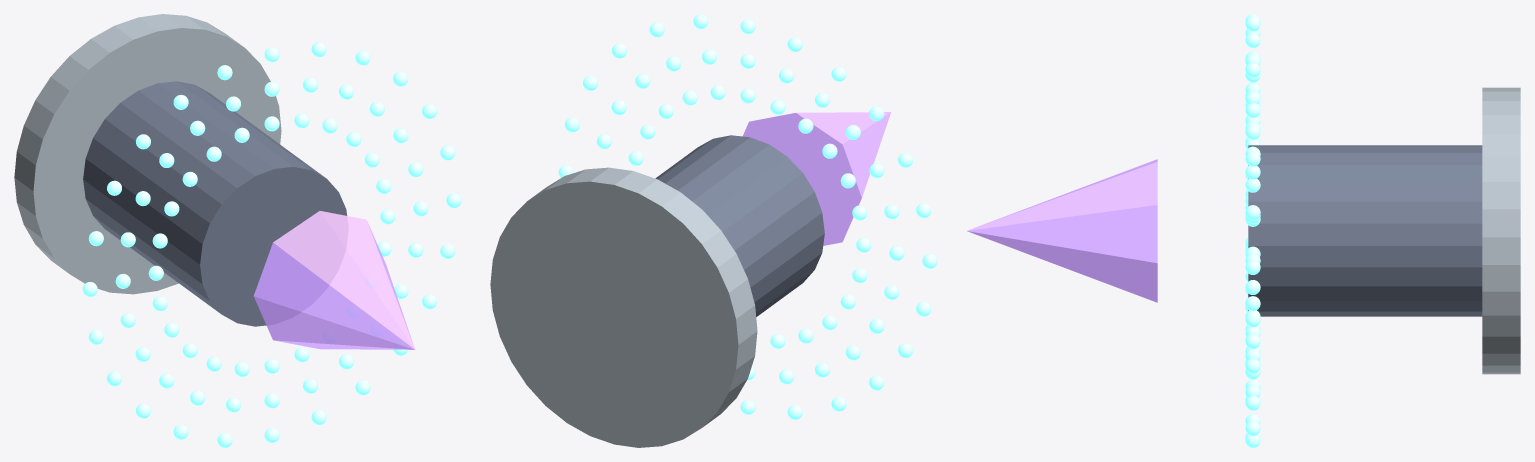
Rendered from 19_Star_Mapping_Instrument.glb.
The picture shows the model from 3 angles, left to right: view 1: azimuth 30°, elevation 25°; view 2: azimuth 150°, elevation 25°; view 3: azimuth 270°, elevation 25°; orthographic projection.
Visible parts, largest first — view 1: 19_Star_Mapping_Instrument_01, 19_Star_Mapping_Instrument_00, 19_Star_Mapping_Instrument_74; view 2: 19_Star_Mapping_Instrument_00, 19_Star_Mapping_Instrument_01, 19_Star_Mapping_Instrument_74; view 3: 19_Star_Mapping_Instrument_01, 19_Star_Mapping_Instrument_74, 19_Star_Mapping_Instrument_00.
Boxes of the visible parts, <box> form: 19_Star_Mapping_Instrument_01: <box>83,81,347,326</box>; 19_Star_Mapping_Instrument_00: <box>14,14,281,294</box>; 19_Star_Mapping_Instrument_74: <box>253,211,414,349</box>; 19_Star_Mapping_Instrument_00: <box>490,167,757,447</box>; 19_Star_Mapping_Instrument_01: <box>655,135,824,316</box>; 19_Star_Mapping_Instrument_74: <box>742,112,890,245</box>; 19_Star_Mapping_Instrument_01: <box>1248,145,1482,316</box>; 19_Star_Mapping_Instrument_74: <box>967,159,1157,302</box>; 19_Star_Mapping_Instrument_00: <box>1482,87,1520,374</box>.
Bounding box in the file's own units: 4.56 × 4.56 × 5.8.
